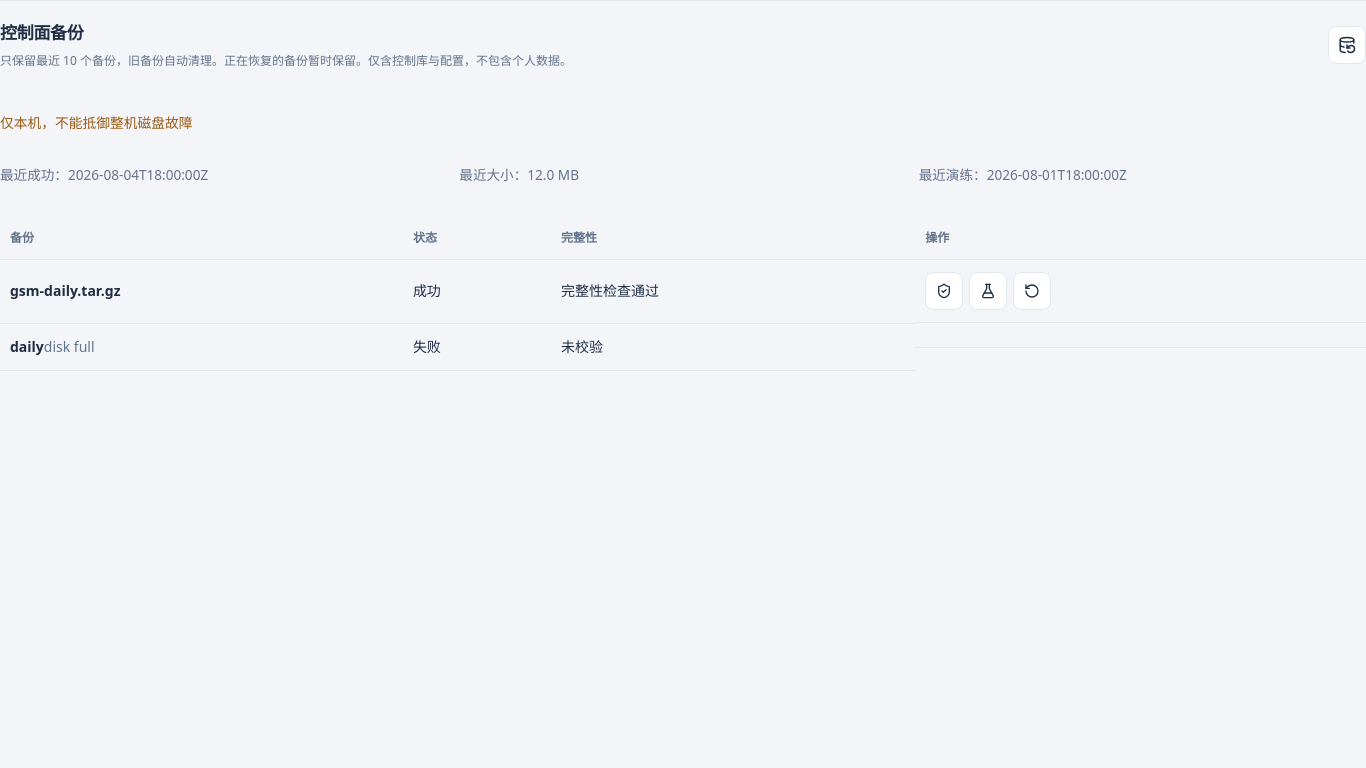
Test case: BackupOperationsPanel › requires the exact restore phrase and returns a service-stopped CLI command
Click the button named "申请恢复 gsm-daily.tar.gz" at (1032, 291), box [1013,272,1051,310]
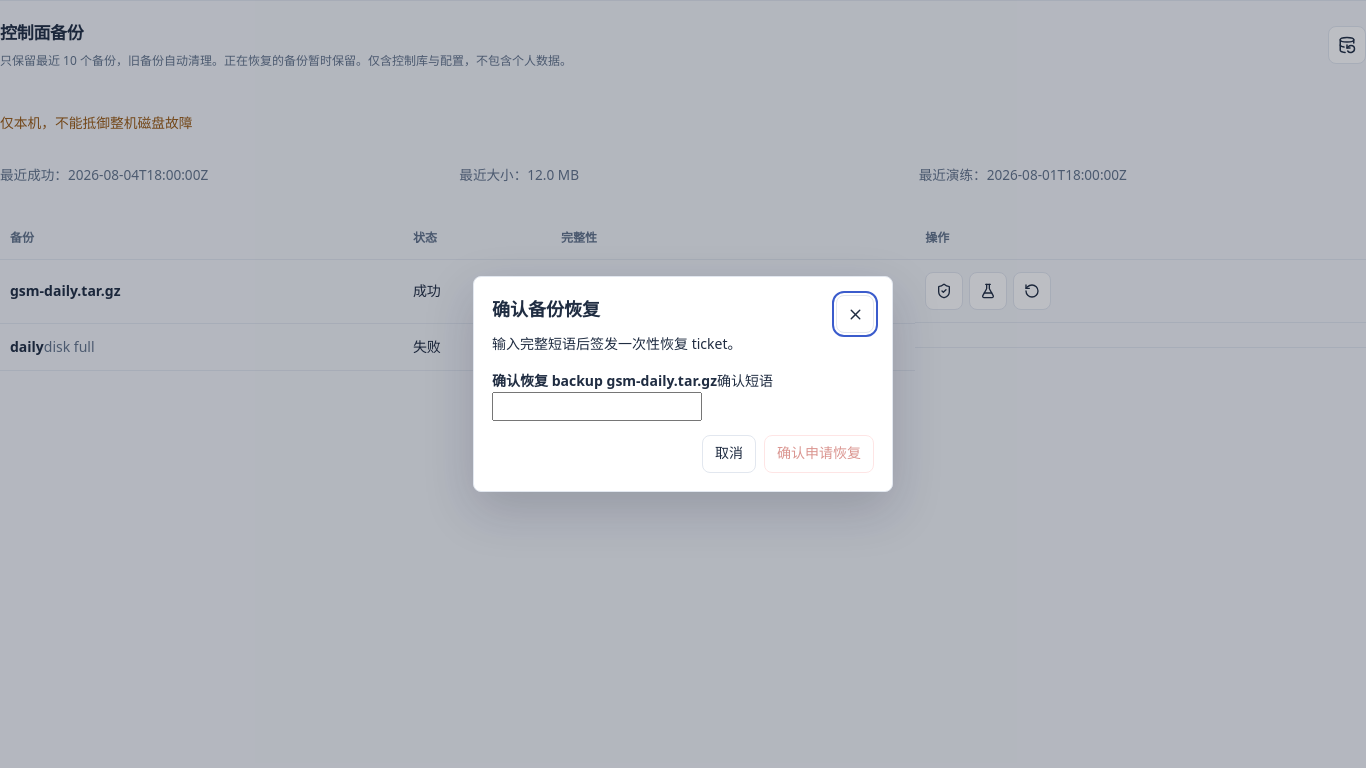
Result: the button "确认申请恢复" is disabled at [764,435,874,473]
Type "确认恢复 backup gsm-daily.tar.gz" into the field labelled "确认短语" at (597, 406), box [492,392,702,421]
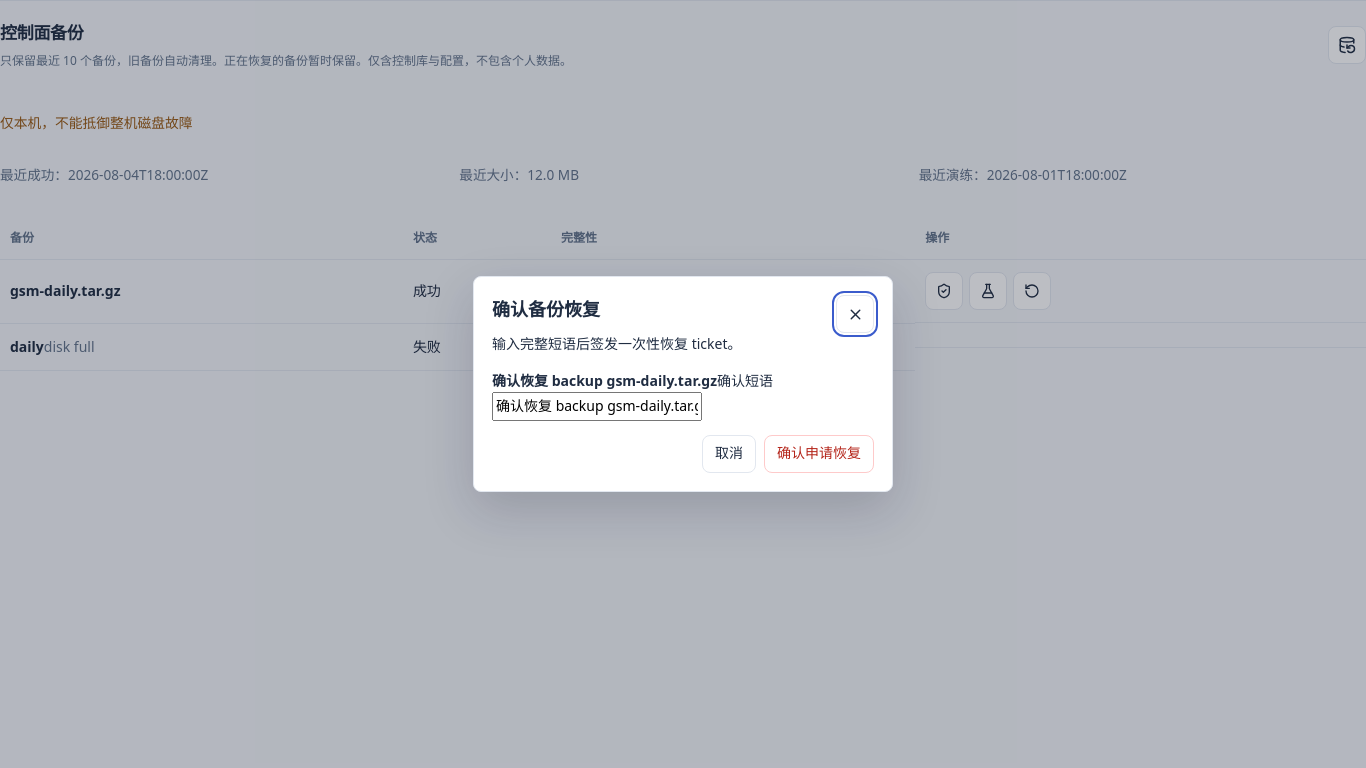
Result: the button "确认申请恢复" is enabled
Click the button "确认申请恢复" at (819, 454), box [764,435,874,473]
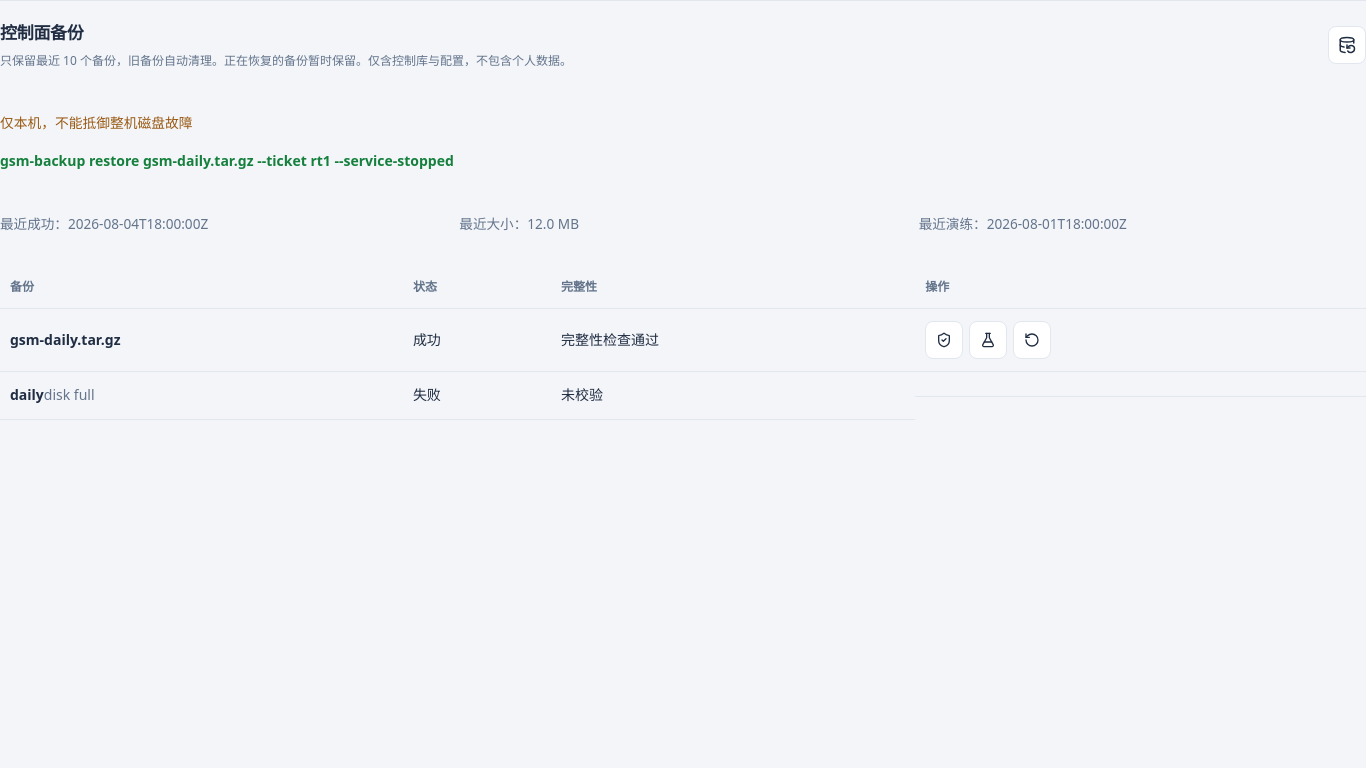
Result: the text "gsm-backup restore gsm-daily.tar.gz --ticket rt1 --service-stopped" is shown at [0,151,454,170]
